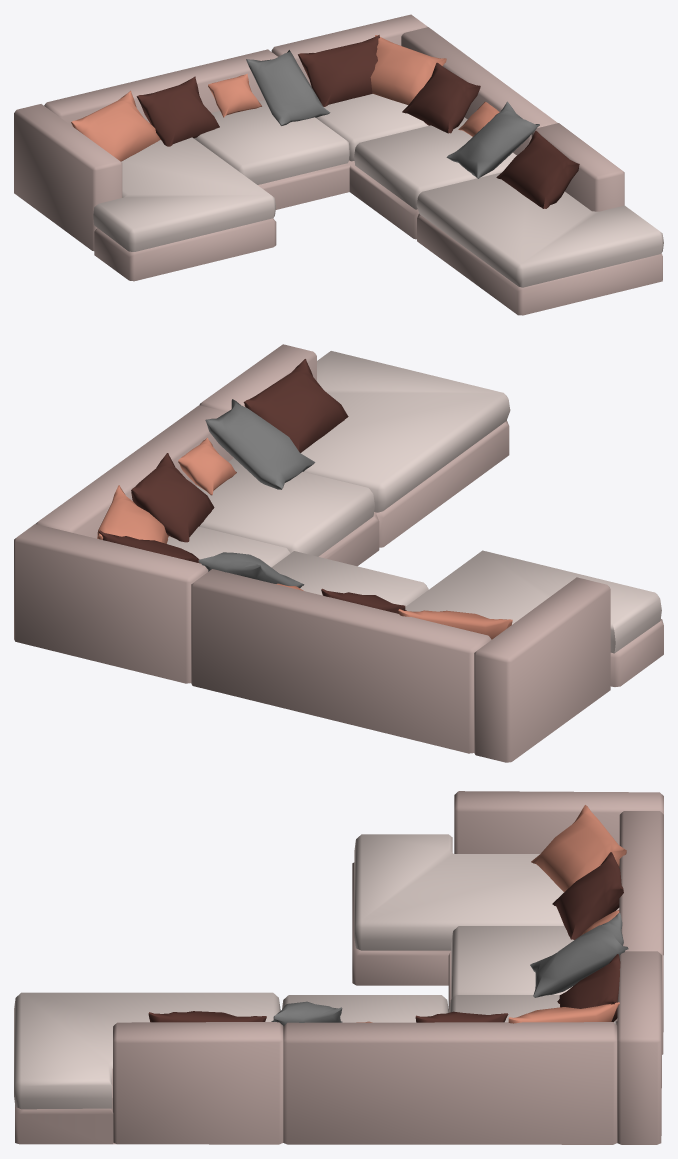
Rendered from sofa_019.glb.
3 views of the same model, one above another, from view 1: azimuth 30°, elevation 25°; view 2: azimuth 150°, elevation 25°; view 3: azimuth 270°, elevation 25° (orthographic). The views are drawn at different scales.
Visible parts, largest first — view 1: sofa_019; view 2: sofa_019; view 3: sofa_019.
Boxes of the visible parts, x1,y1,x2,y2 form: sofa_019: (14, 14, 663, 315); sofa_019: (14, 344, 663, 762); sofa_019: (14, 791, 663, 1144).
Size of the model in its own units: 2.93 by 0.6462 by 3.21.
Materials: 1 (1 with a texture image).
